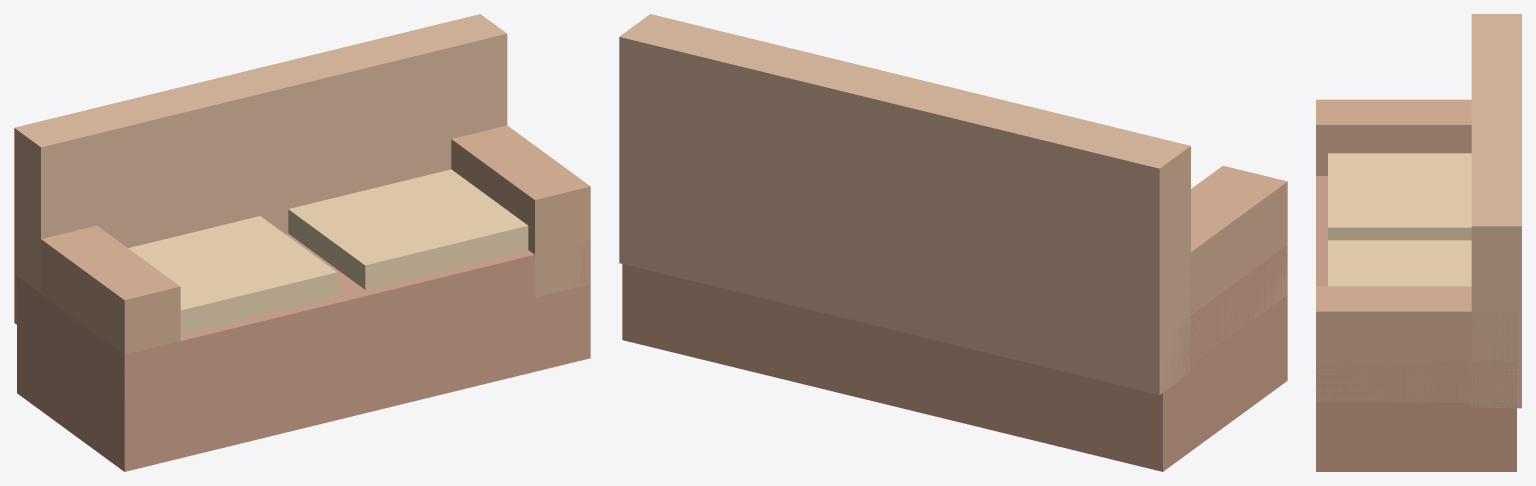
File: sofa.glb
3 renders of one model, left to right at view 1: azimuth 30°, elevation 25°; view 2: azimuth 150°, elevation 25°; view 3: azimuth 270°, elevation 25°, orthographic. The views are drawn at different scales.
Visible parts, largest first — view 1: back, base, cushion (×2), arm (×2); view 2: back, base, arm; view 3: arm (×2), base, back, cushion (×2).
Part boxes in pixels (box(x1,y1,x2,y2)): back: box(14, 14, 507, 339); base: box(17, 233, 590, 471); cushion (×2): box(128, 169, 528, 334); arm (×2): box(17, 125, 590, 396); back: box(619, 14, 1190, 394); base: box(622, 245, 1287, 471); arm: box(1177, 165, 1287, 369); arm (×2): box(1316, 99, 1516, 402); base: box(1316, 176, 1516, 471); back: box(1471, 14, 1521, 408); cushion (×2): box(1328, 153, 1471, 286).
Bounding box in the file's own units: 2.5 × 1.35 × 1.02.
